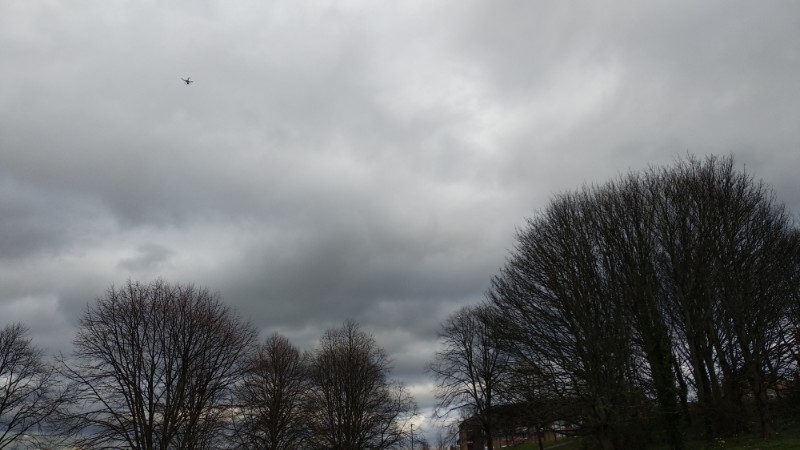drone: (181, 76, 194, 85)
